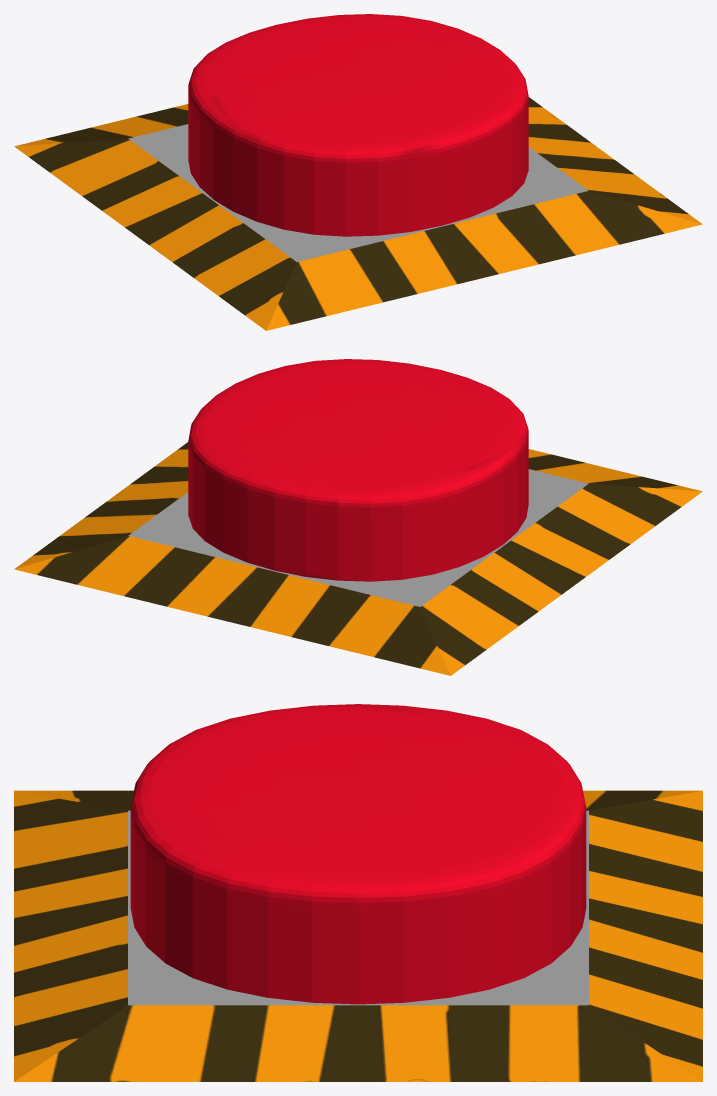
Rendered from EmergencyButton.fbx.
3 views of the same model, one above another, from view 1: azimuth 30°, elevation 25°; view 2: azimuth 150°, elevation 25°; view 3: azimuth 270°, elevation 25° (orthographic). The views are drawn at different scales.
Visible parts, largest first — view 1: Button, Bottom; view 2: Button, Bottom; view 3: Button, Bottom.
Boxes of the visible parts, x1=… form: Button: x1=188, y1=14, x2=528, y2=236; Bottom: x1=14, y1=97, x2=702, y2=330; Button: x1=188, y1=359, x2=528, y2=581; Bottom: x1=14, y1=442, x2=702, y2=675; Button: x1=130, y1=704, x2=586, y2=1004; Bottom: x1=14, y1=790, x2=702, y2=1081.
Bounding box in the file's own units: 200 × 46.24 × 200.
1 material, 1 textured.
